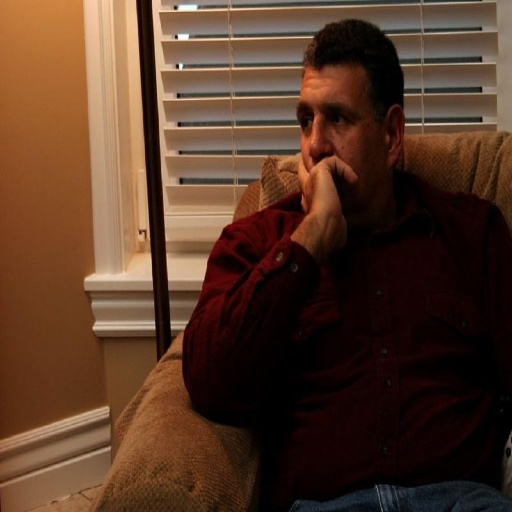hand: (297, 148, 353, 251)
